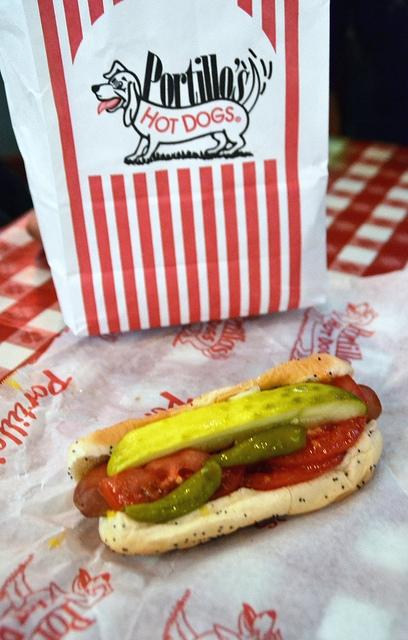tomato: (98, 449, 244, 512), (266, 414, 366, 466), (240, 449, 348, 492)
